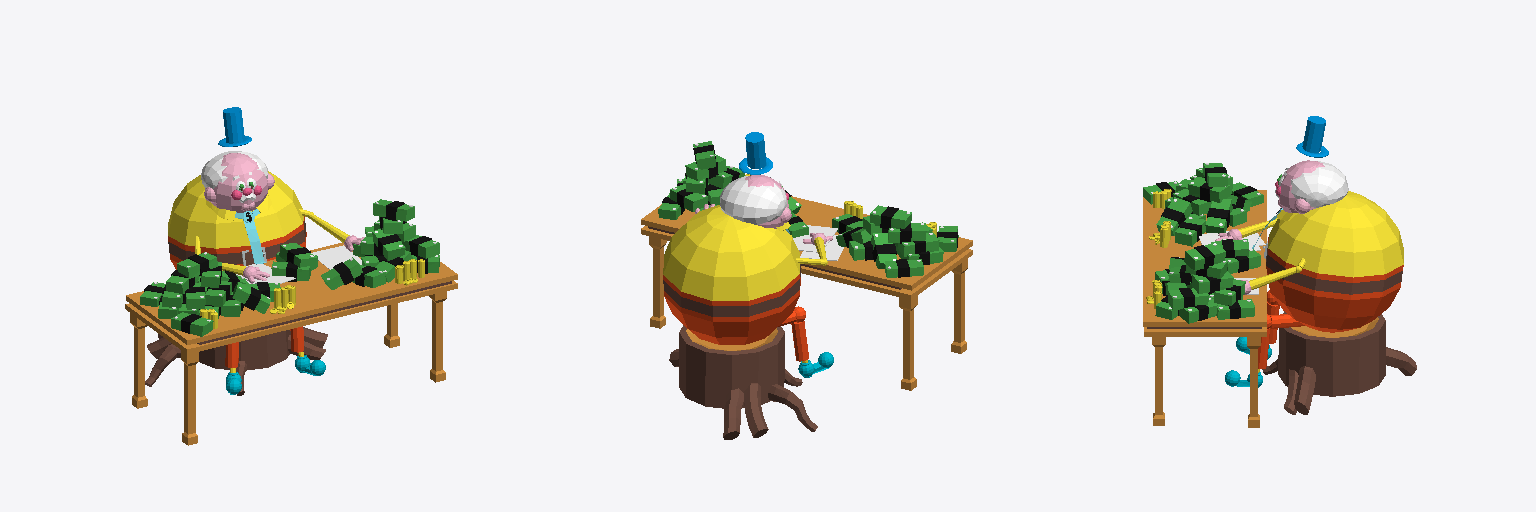
The model's file is TreeEater.obj.
The picture shows the model from 3 angles: view 1: azimuth 30°, elevation 25°; view 2: azimuth 150°, elevation 25°; view 3: azimuth 270°, elevation 25°; orthographic projection.
Visible parts, largest first — view 1: group[number redacted], group[number redacted], group[number redacted], group[number redacted], group[number redacted], group[number redacted], group[number redacted], group[number redacted], group[number redacted], group[number redacted], group[number redacted], group[number redacted] (+10 smaller); view 2: group[number redacted], group[number redacted], group[number redacted], group[number redacted], group[number redacted], group[number redacted], group[number redacted], group[number redacted], group[number redacted], group[number redacted], group[number redacted], group[number redacted] (+6 smaller); view 3: group[number redacted], group[number redacted], group[number redacted], group[number redacted], group[number redacted], group[number redacted], group[number redacted], group[number redacted], group[number redacted], group[number redacted], group[number redacted], group[number redacted] (+9 smaller).
Boxes of the visible parts, x1=… form: group[number redacted]: x1=168, y1=171, x2=306, y2=269; group[number redacted]: x1=126, y1=243, x2=457, y2=344; group[number redacted]: x1=145, y1=327, x2=327, y2=395; group[number redacted]: x1=125, y1=281, x2=457, y2=353; group[number redacted]: x1=213, y1=153, x2=267, y2=212; group[number redacted]: x1=181, y1=350, x2=198, y2=445; group[number redacted]: x1=130, y1=313, x2=147, y2=408; group[number redacted]: x1=429, y1=291, x2=446, y2=382; group[number redacted]: x1=201, y1=151, x2=267, y2=188; group[number redacted]: x1=321, y1=257, x2=362, y2=289; group[number redacted]: x1=171, y1=312, x2=213, y2=336; group[number redacted]: x1=373, y1=199, x2=414, y2=221; group[number redacted]: x1=663, y1=205, x2=800, y2=344; group[number redacted]: x1=669, y1=325, x2=817, y2=439; group[number redacted]: x1=641, y1=196, x2=972, y2=290; group[number redacted]: x1=720, y1=176, x2=786, y2=224; group[number redacted]: x1=641, y1=226, x2=972, y2=299; group[number redacted]: x1=899, y1=295, x2=917, y2=390; group[number redacted]: x1=649, y1=236, x2=666, y2=328; group[number redacted]: x1=951, y1=259, x2=967, y2=353; group[number redacted]: x1=791, y1=321, x2=833, y2=377; group[number redacted]: x1=870, y1=205, x2=911, y2=229; group[number redacted]: x1=745, y1=132, x2=765, y2=168; group[number redacted]: x1=871, y1=233, x2=896, y2=268; group[number redacted]: x1=1266, y1=191, x2=1403, y2=332; group[number redacted]: x1=1262, y1=311, x2=1416, y2=414; group[number redacted]: x1=1143, y1=190, x2=1266, y2=326; group[number redacted]: x1=1291, y1=161, x2=1348, y2=207; group[number redacted]: x1=1144, y1=327, x2=1266, y2=336; group[number redacted]: x1=1247, y1=337, x2=1260, y2=427; group[number redacted]: x1=1184, y1=242, x2=1225, y2=270; group[number redacted]: x1=1152, y1=337, x2=1165, y2=425; group[number redacted]: x1=1279, y1=160, x2=1316, y2=212; group[number redacted]: x1=1205, y1=199, x2=1232, y2=233; group[number redacted]: x1=1156, y1=197, x2=1192, y2=235; group[number redacted]: x1=1168, y1=288, x2=1208, y2=309.
Size of the model in its own units: 4.61 by 4.35 by 4.